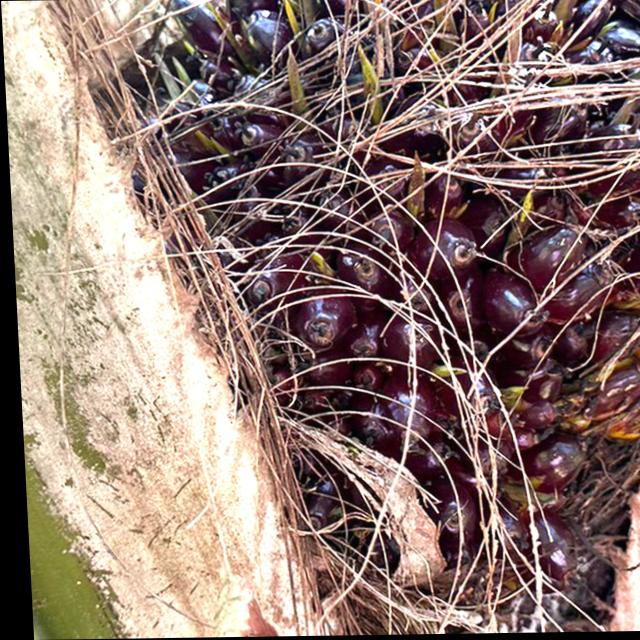almost: (77, 0, 640, 635)
